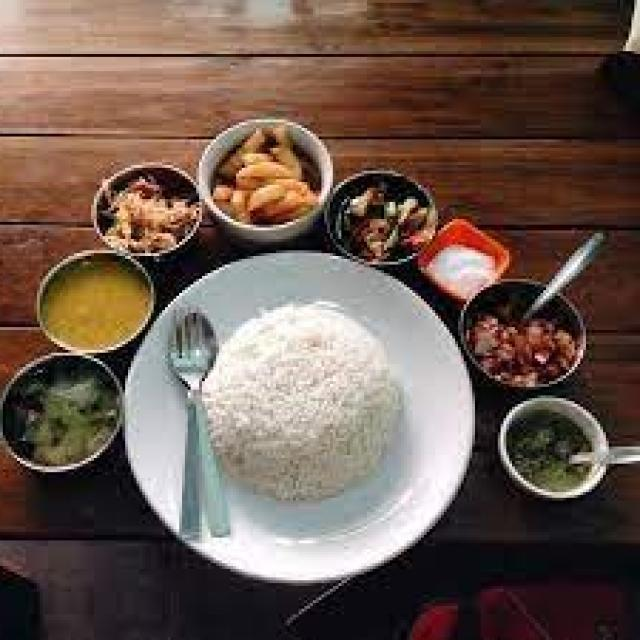dal: (36, 252, 158, 352)
rice: (119, 328, 213, 527)
veg-fry: (213, 296, 395, 501)
